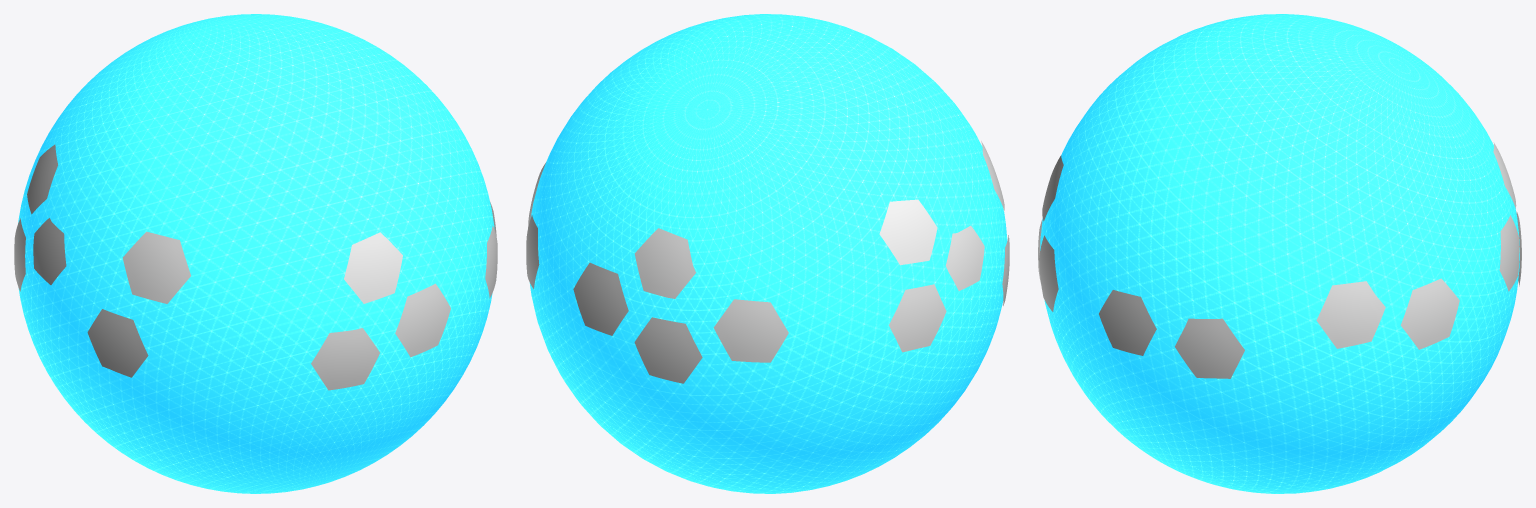
File: huliujiao1.gltf
The picture shows the model from 3 angles, left to right: view 1: azimuth 30°, elevation 25°; view 2: azimuth 150°, elevation 25°; view 3: azimuth 270°, elevation 25°; orthographic projection.
Parts seen in each view (by area): view 1: ball, 棱角球.014, 棱角球.010, 棱角球.011, 棱角球.013, 棱角球.009, 棱角球.015, 棱角球.016, 棱角球.012, 棱角球.008; view 2: ball, 棱角球.006, 棱角球.001, 棱角球.003, 棱角球.016, 棱角球.002, 棱角球.012, 棱角球.015, 棱角球.004; view 3: ball, 棱角球.005, 棱角球.007, 棱角球.004, 棱角球.008, 棱角球.002, 棱角球.009, 棱角球.011.
Part boxes in pixels (x1=…): ball: x1=18, y1=14, x2=494, y2=493; 棱角球.014: x1=123, y1=231, x2=190, y2=303; 棱角球.010: x1=311, y1=328, x2=379, y2=390; 棱角球.011: x1=344, y1=232, x2=402, y2=303; 棱角球.013: x1=87, y1=309, x2=148, y2=377; 棱角球.009: x1=395, y1=283, x2=450, y2=357; 棱角球.015: x1=33, y1=218, x2=66, y2=284; 棱角球.016: x1=27, y1=144, x2=57, y2=214; 棱角球.012: x1=14, y1=218, x2=25, y2=291; 棱角球.008: x1=485, y1=225, x2=497, y2=298; ball: x1=529, y1=14, x2=1007, y2=493; 棱角球.006: x1=713, y1=299, x2=788, y2=362; 棱角球.001: x1=634, y1=317, x2=702, y2=383; 棱角球.003: x1=634, y1=228, x2=695, y2=298; 棱角球.016: x1=879, y1=199, x2=937, y2=265; 棱角球.002: x1=573, y1=262, x2=628, y2=335; 棱角球.012: x1=889, y1=284, x2=946, y2=352; 棱角球.015: x1=945, y1=225, x2=984, y2=290; 棱角球.004: x1=526, y1=215, x2=539, y2=288; ball: x1=1040, y1=14, x2=1519, y2=493; 棱角球.005: x1=1316, y1=281, x2=1385, y2=348; 棱角球.007: x1=1175, y1=318, x2=1244, y2=378; 棱角球.004: x1=1400, y1=278, x2=1459, y2=349; 棱角球.008: x1=1099, y1=290, x2=1156, y2=355; 棱角球.002: x1=1499, y1=215, x2=1519, y2=291; 棱角球.009: x1=1039, y1=235, x2=1058, y2=311; 棱角球.011: x1=1042, y1=155, x2=1063, y2=221.
Size of the model in its own units: 1.99 by 1.98 by 2.
4 materials, 1 textured.
